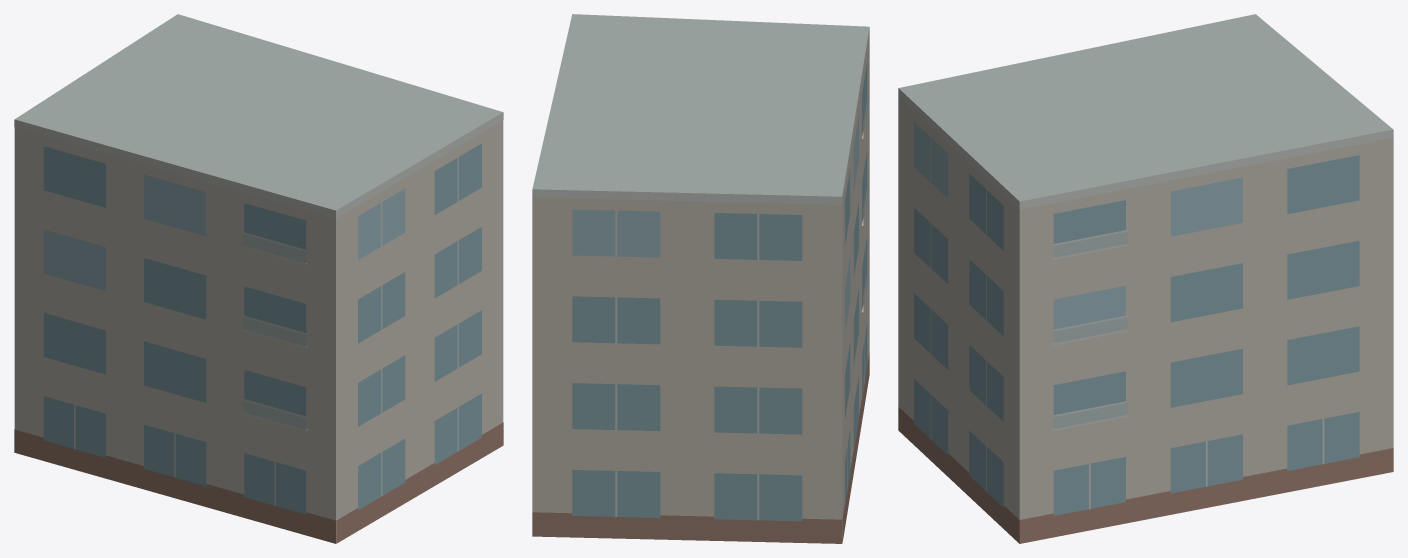
File: survey-upis-33044031.glb
3 renders of one model, left to right at view 1: azimuth 30°, elevation 25°; view 2: azimuth 150°, elevation 25°; view 3: azimuth 270°, elevation 25°, orthographic. The views are drawn at different scales.
Visible parts, largest first — view 1: survey-upis-33044031.tmp; view 2: survey-upis-33044031.tmp; view 3: survey-upis-33044031.tmp.
Boxes of the visible parts, x1=… form: survey-upis-33044031.tmp: x1=14, y1=14, x2=503, y2=543; survey-upis-33044031.tmp: x1=532, y1=14, x2=869, y2=543; survey-upis-33044031.tmp: x1=898, y1=14, x2=1393, y2=543.
Size of the model in its own units: 12.11 by 10.3 by 13.51.
